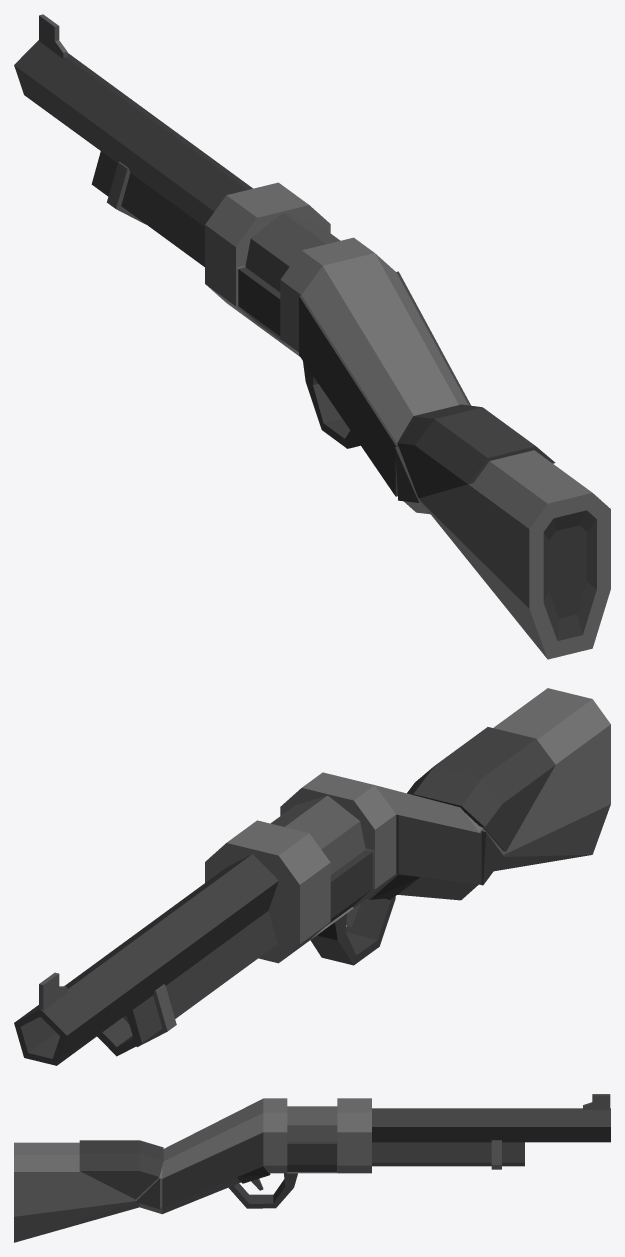
File: shotgun_1.glb
The picture shows the model from 3 angles, top to bottom: view 1: azimuth 30°, elevation 25°; view 2: azimuth 150°, elevation 25°; view 3: azimuth 270°, elevation 25°; orthographic projection. The views are drawn at different scales.
Parts seen in each view (by area): view 1: shotgun_1, shotgun_charguer_1; view 2: shotgun_1, shotgun_charguer_1; view 3: shotgun_1, shotgun_charguer_1.
Boxes of the visible parts, x1,y1,x2,y2 form: shotgun_1: (14, 14, 610, 659); shotgun_charguer_1: (245, 212, 340, 292); shotgun_1: (14, 688, 610, 1065); shotgun_charguer_1: (270, 795, 365, 874); shotgun_1: (14, 1094, 610, 1242); shotgun_charguer_1: (287, 1106, 337, 1141).
Size of the model in its own units: 0.31 by 0.7486 by 2.85.
1 material, 1 textured.
